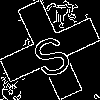S: (25, 25, 75, 80)
